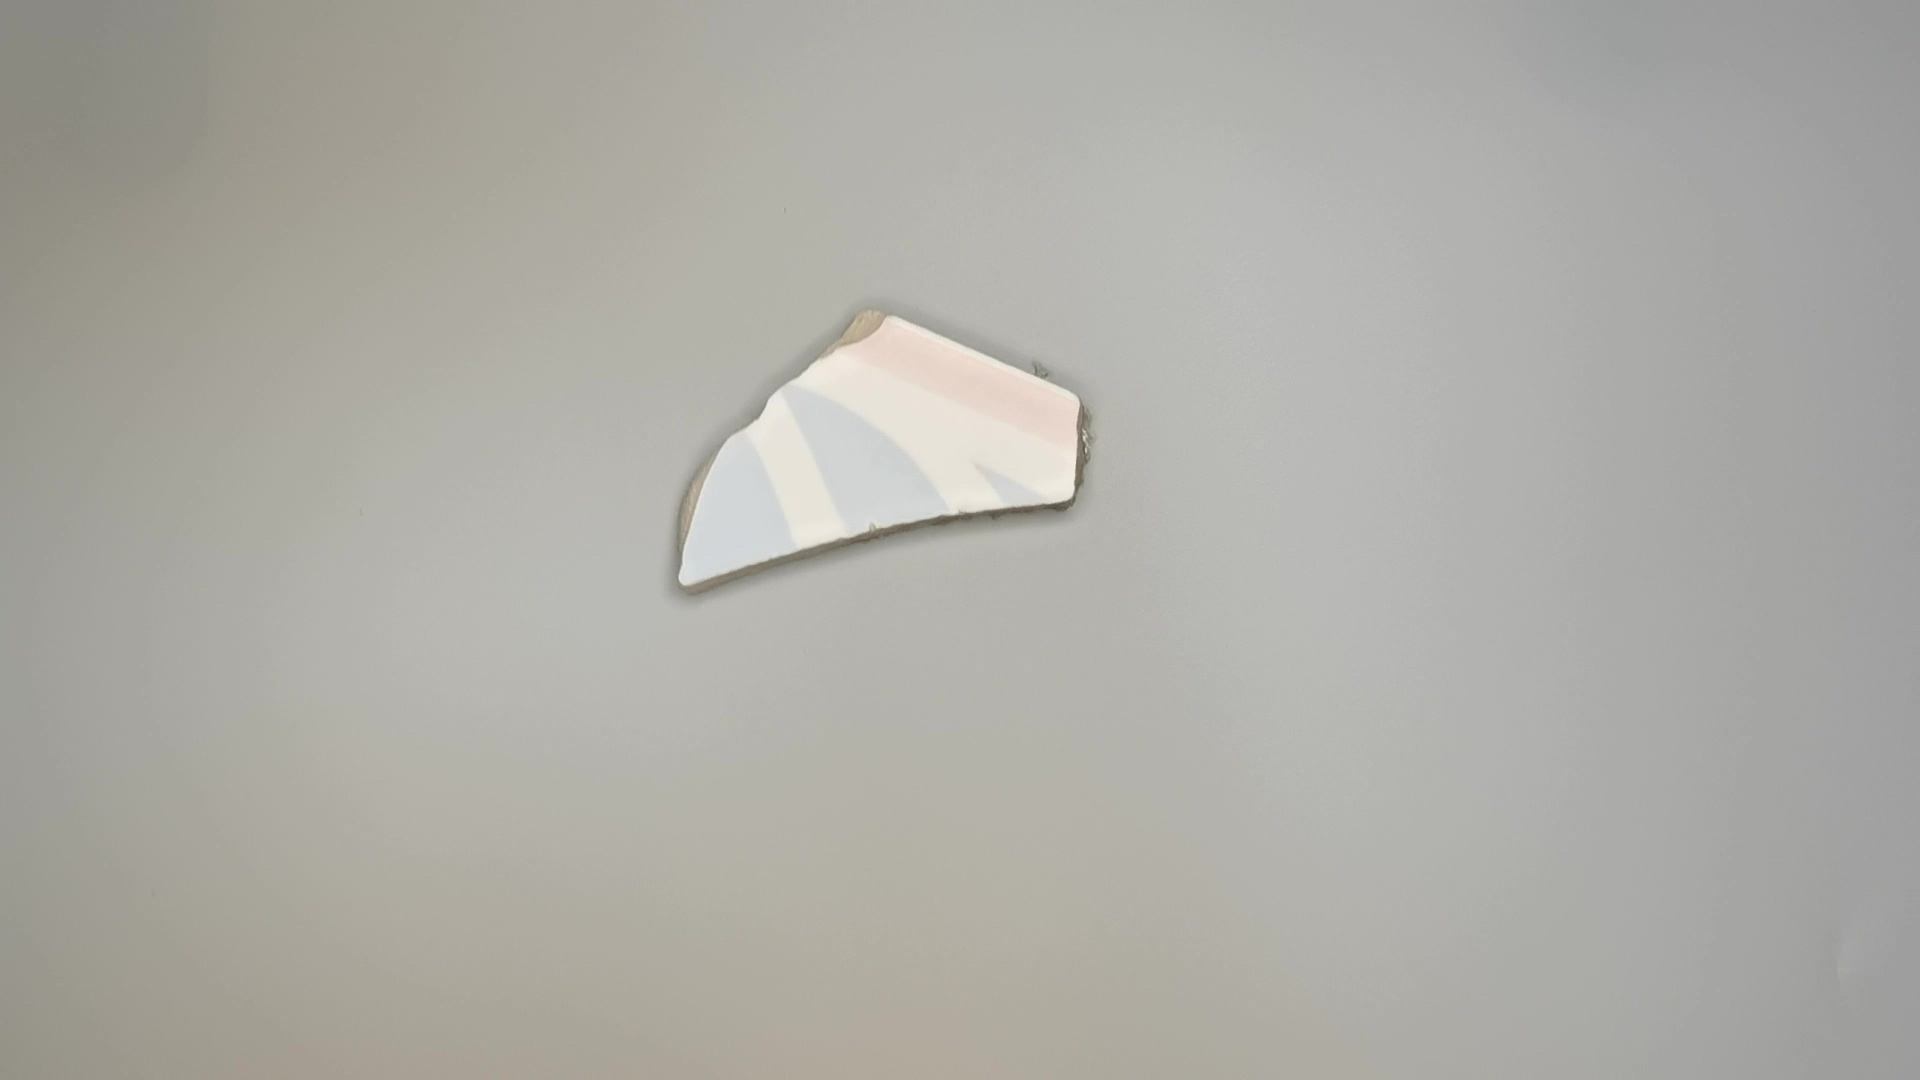ceramic: (675, 301, 1091, 597)
